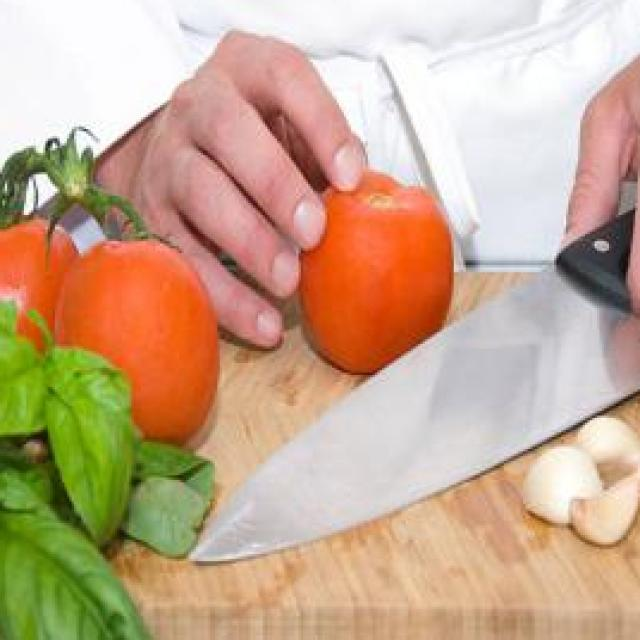knife: (186, 194, 640, 568)
